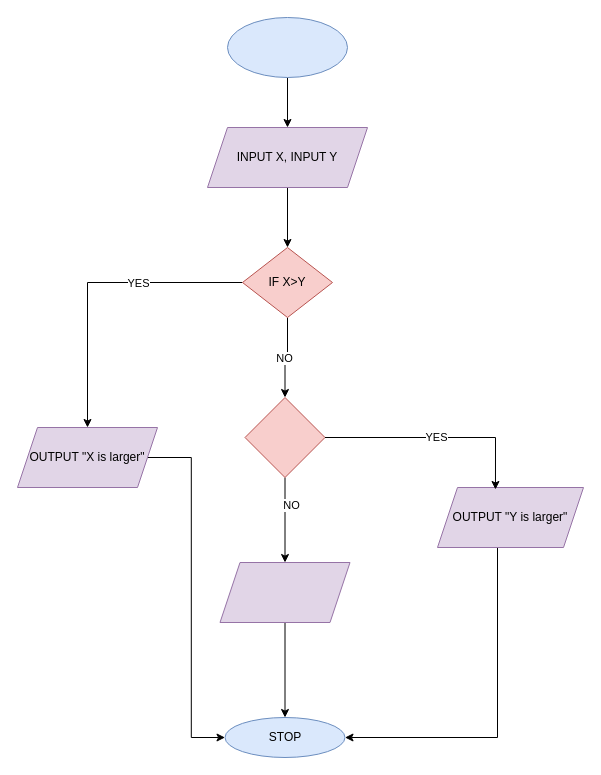
The diagram is 601 pixels wide and 775 high, and some of its shapes have lost their labels. Each missing label, with the centre of its shape:
IF Y>X: (x=284, y=437)
OUTPUT "Both are equal": (x=284, y=592)
START: (x=287, y=47)
